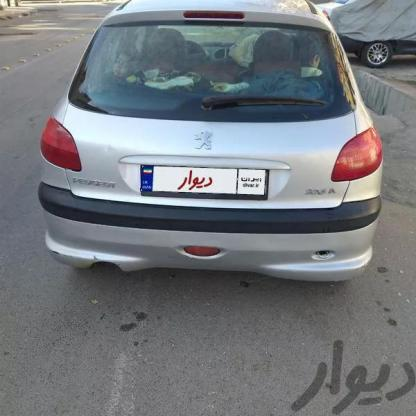Car: (55, 0, 384, 297), (323, 0, 412, 68)
